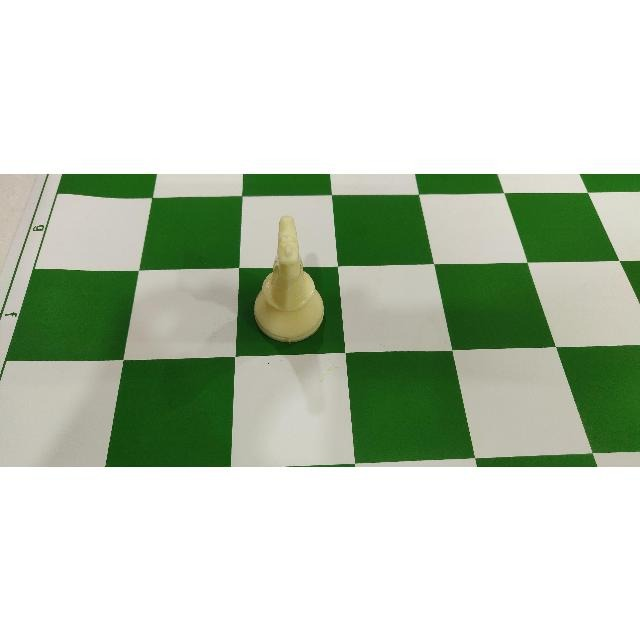white-knight: (251, 213, 326, 343)
